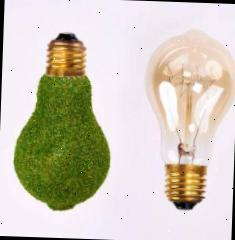lightbulb: (12, 30, 114, 212), (139, 26, 235, 211)
